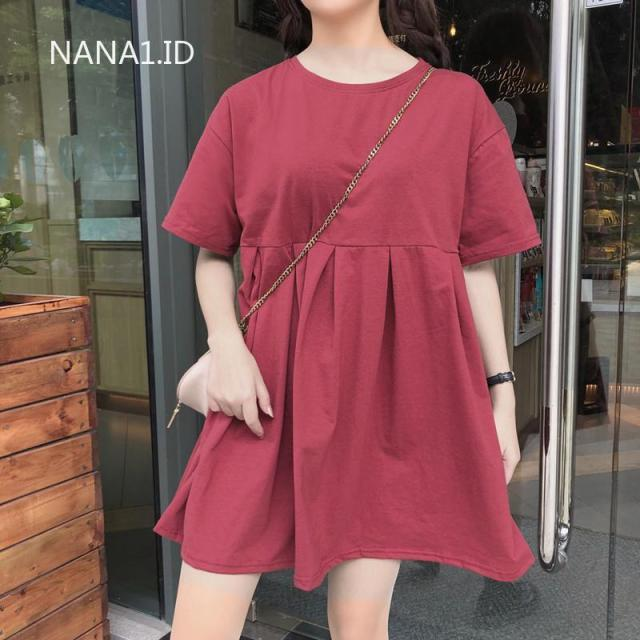skirt: (138, 51, 544, 621)
